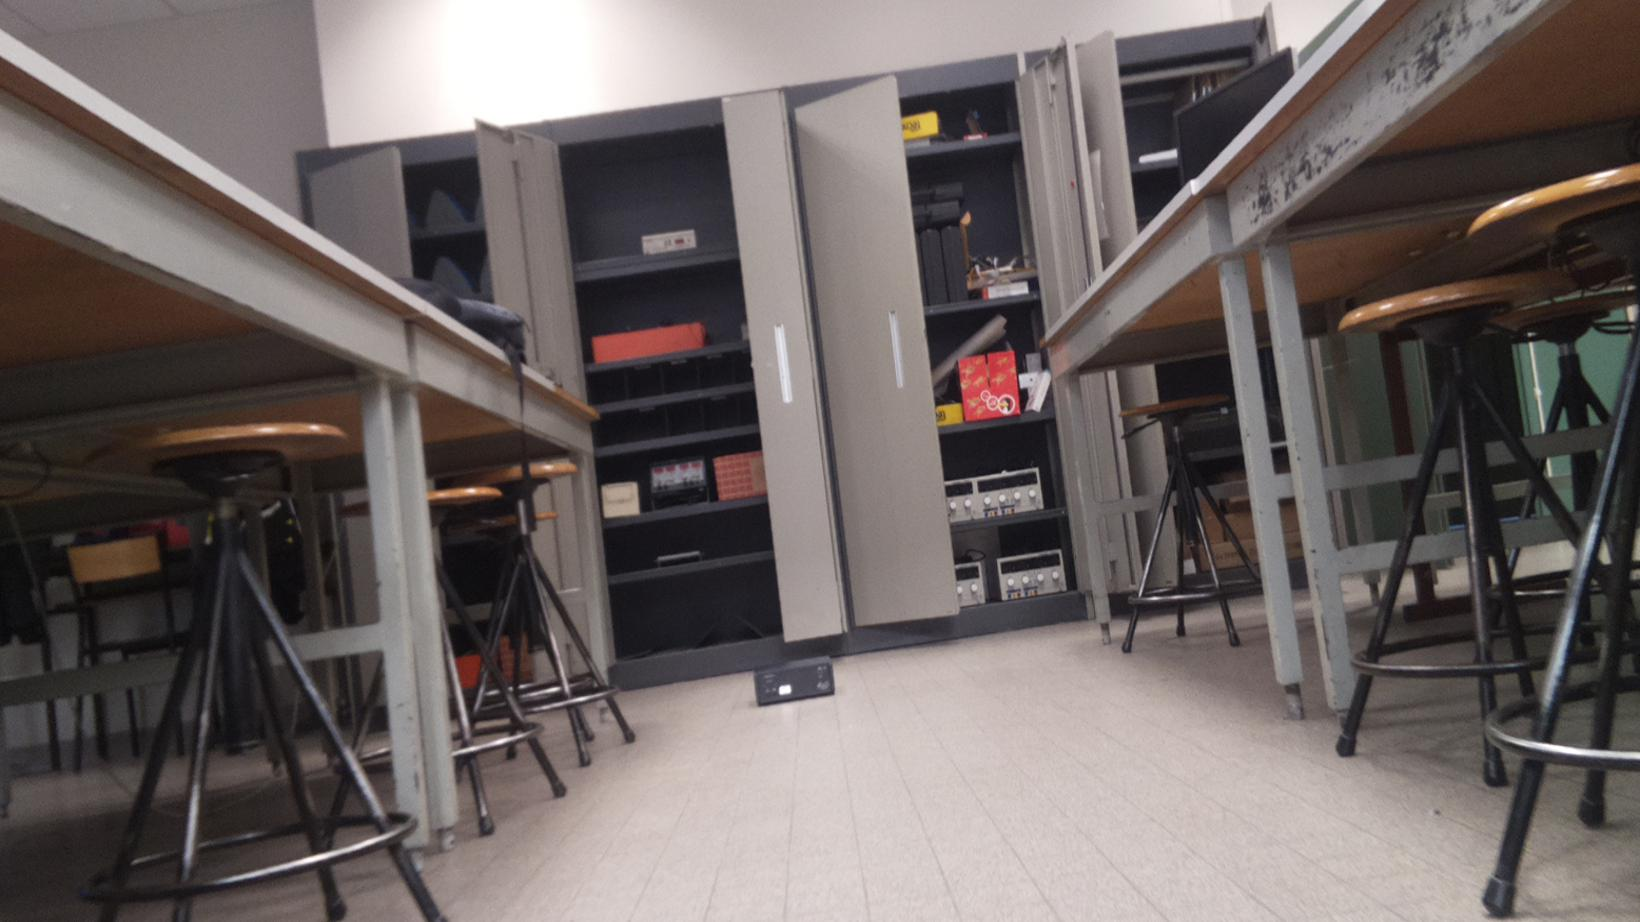medium: (751, 652, 839, 707)
